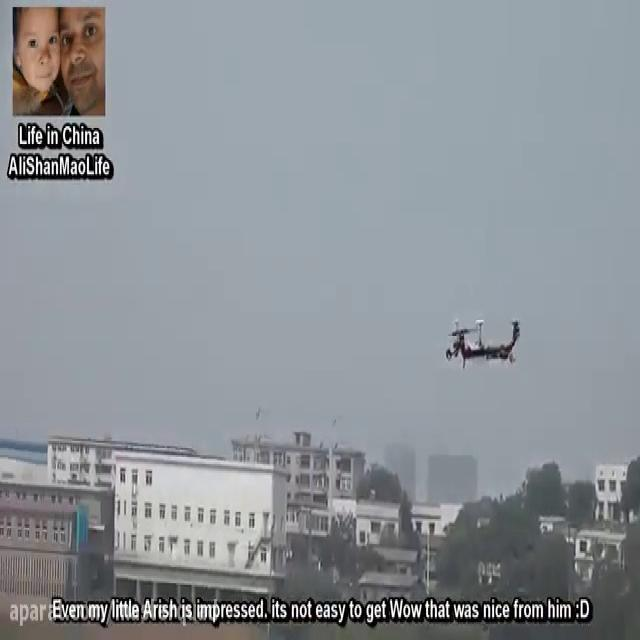drone: (441, 309, 525, 370)
